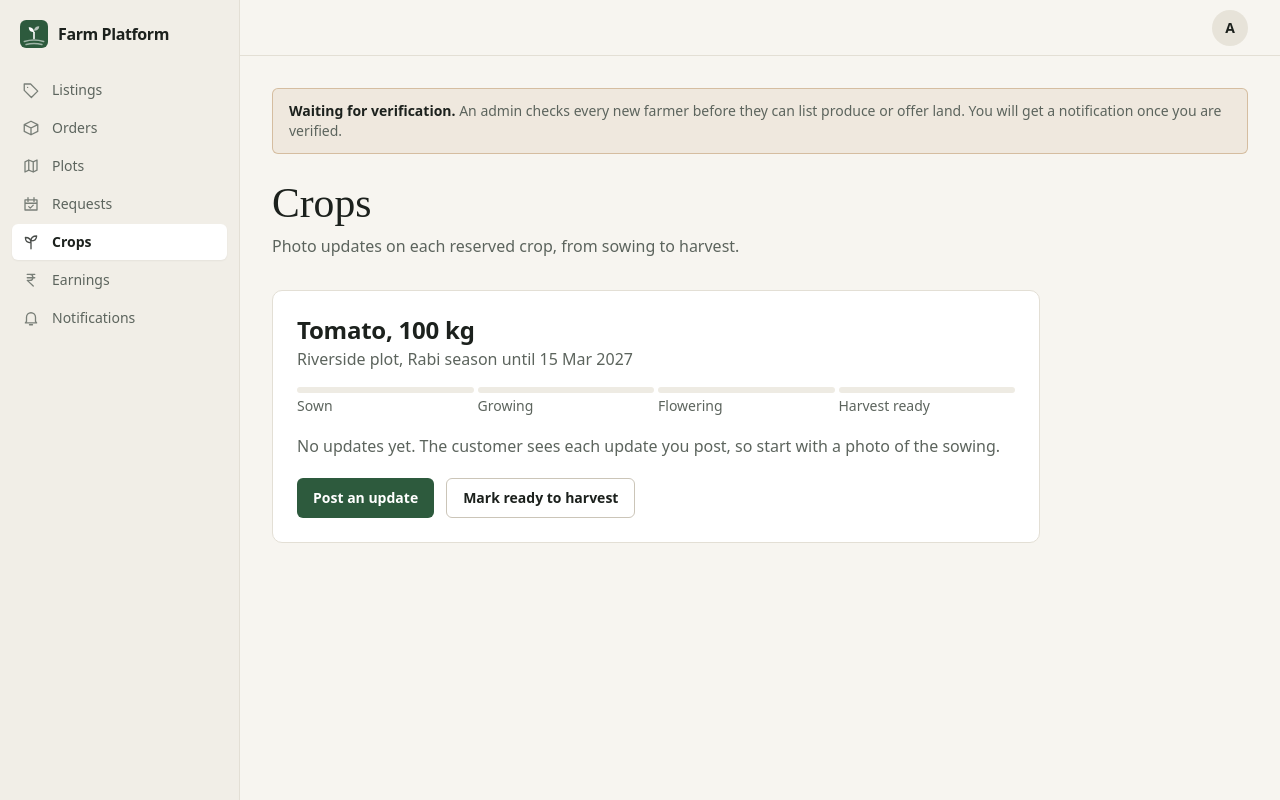
farmer crop updates › needs a photo or a note
Click the button "Post an update" at coordinates (366, 498), box [297, 478, 434, 518]
(page scrolled)
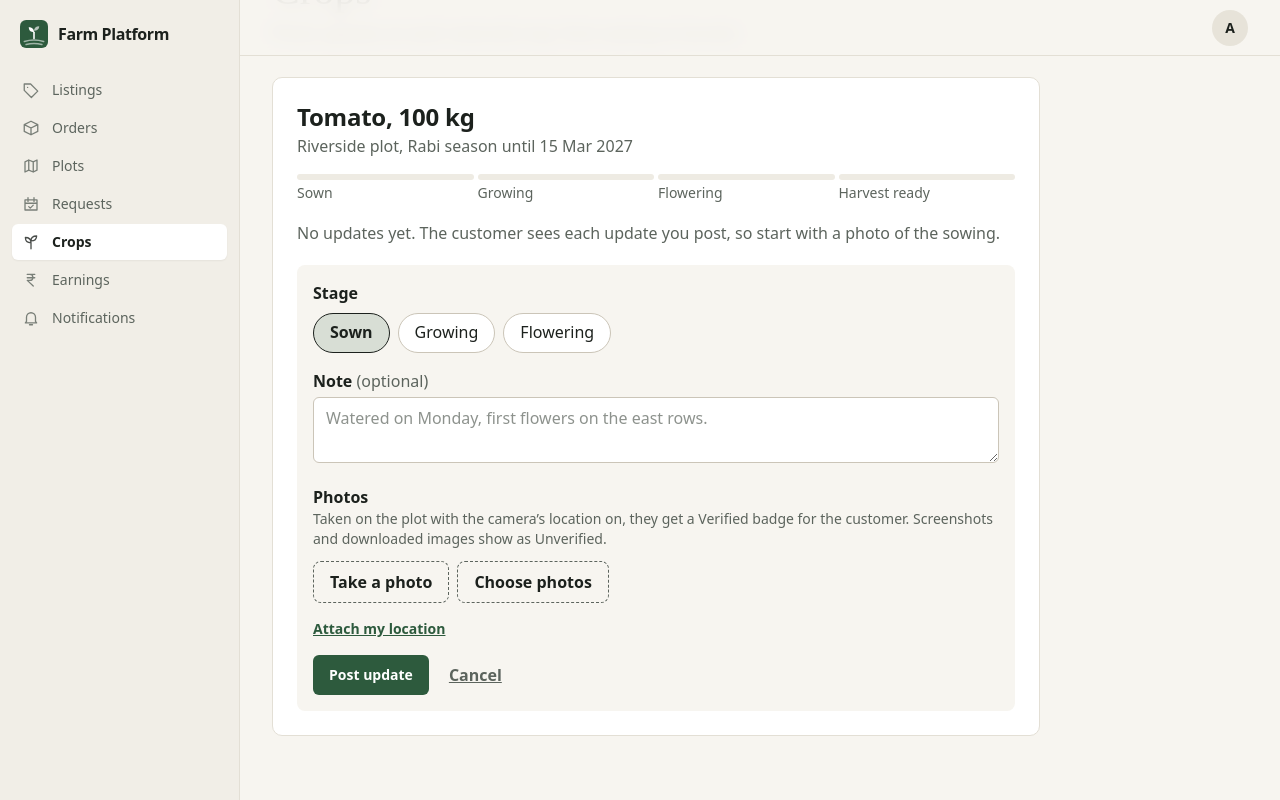
Click the button "Post update" at coordinates (371, 676), box [313, 656, 429, 696]
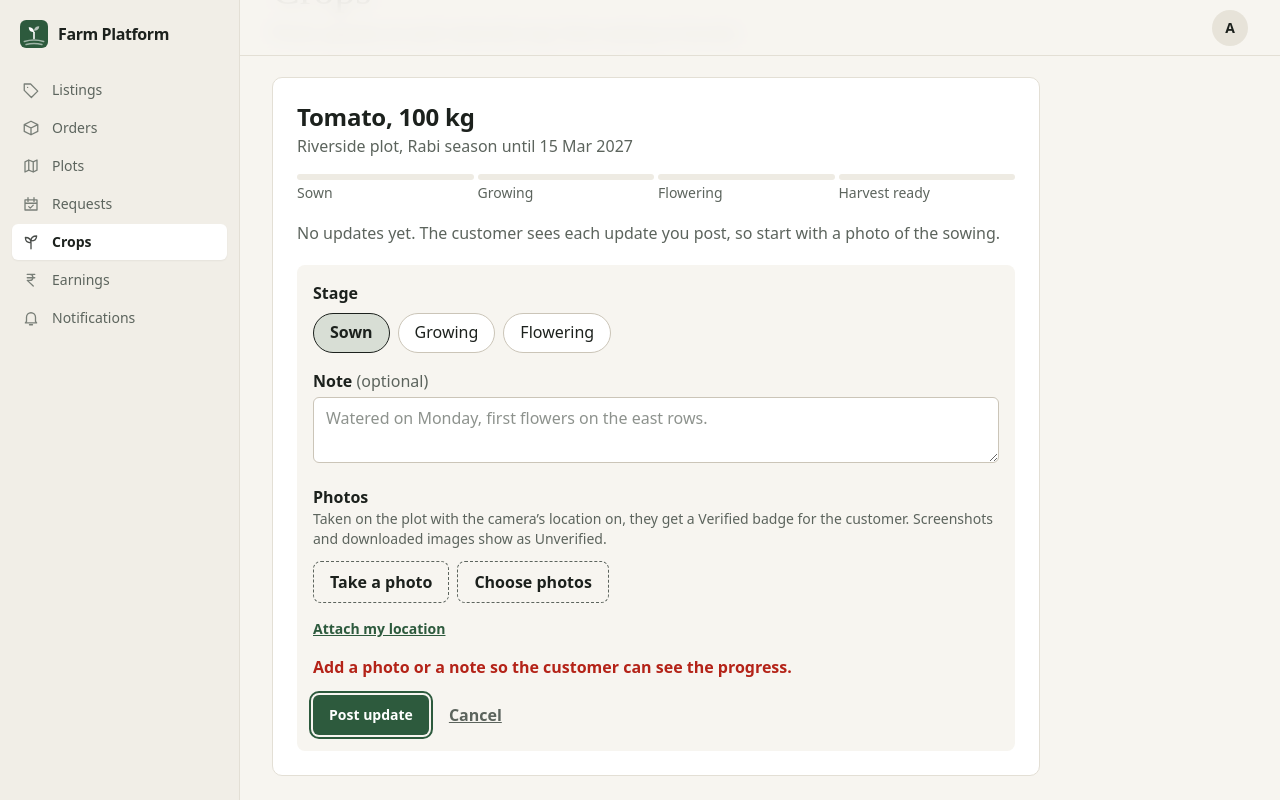
Now the message shows "Add a photo or a note", box [313, 656, 792, 678]
